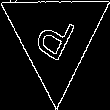P_SW: (30, 6, 81, 69)
